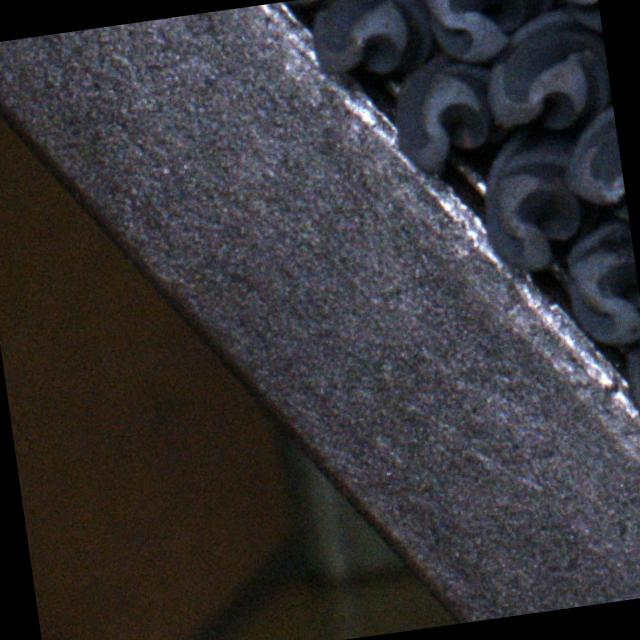tool_b: (475, 4, 616, 146), (474, 121, 600, 276), (386, 48, 506, 177), (306, 0, 436, 83), (562, 220, 640, 347), (554, 106, 630, 231), (421, 0, 556, 66)
